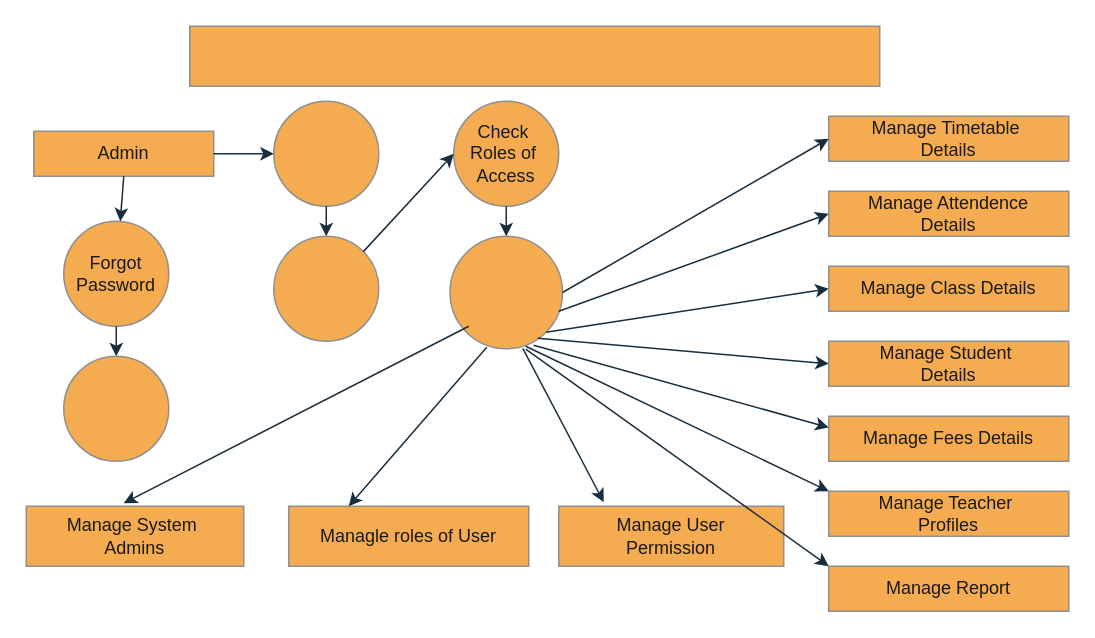
This 1095x638 diagram has some shape labels left out. Each missing label, with the centre of its shape:
"Check Crendentials" goes at point 325,288.
"Login to System" goes at point 325,153.
"Manage Modules" goes at point 505,292.
"Send Email to User" goes at point 115,408.
"Student Information System" goes at point 534,55.
